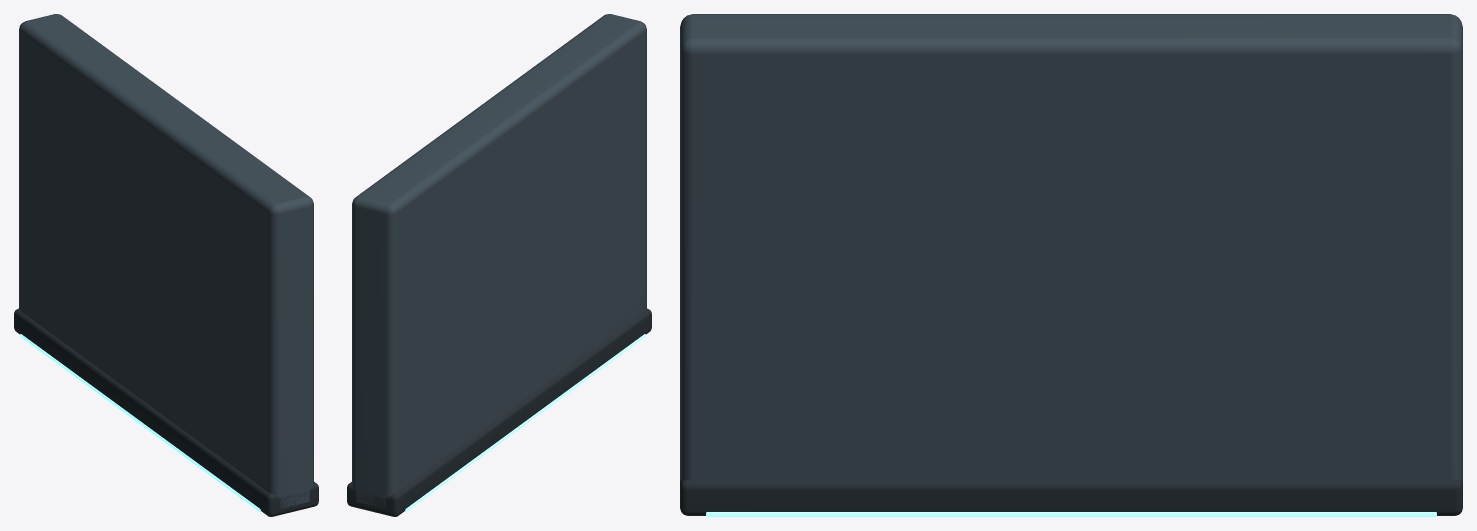
The model's file is fin.glb.
The picture shows the model from 3 angles, left to right: view 1: azimuth 30°, elevation 25°; view 2: azimuth 150°, elevation 25°; view 3: azimuth 270°, elevation 25°; orthographic projection. The views are drawn at different scales.
Parts seen in each view (by area): view 1: fin; view 2: fin; view 3: fin.
Part boxes in pixels (<box>): fin: <box>14,14,318,516</box>; fin: <box>347,14,651,516</box>; fin: <box>680,14,1462,516</box>.
Bounding box in the file's own units: 0.72 × 4 × 6.
